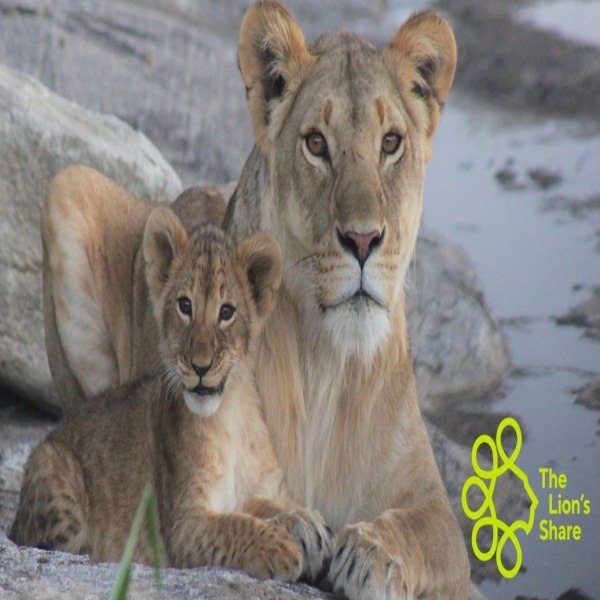Lion: (39, 3, 476, 600), (13, 204, 307, 587)
